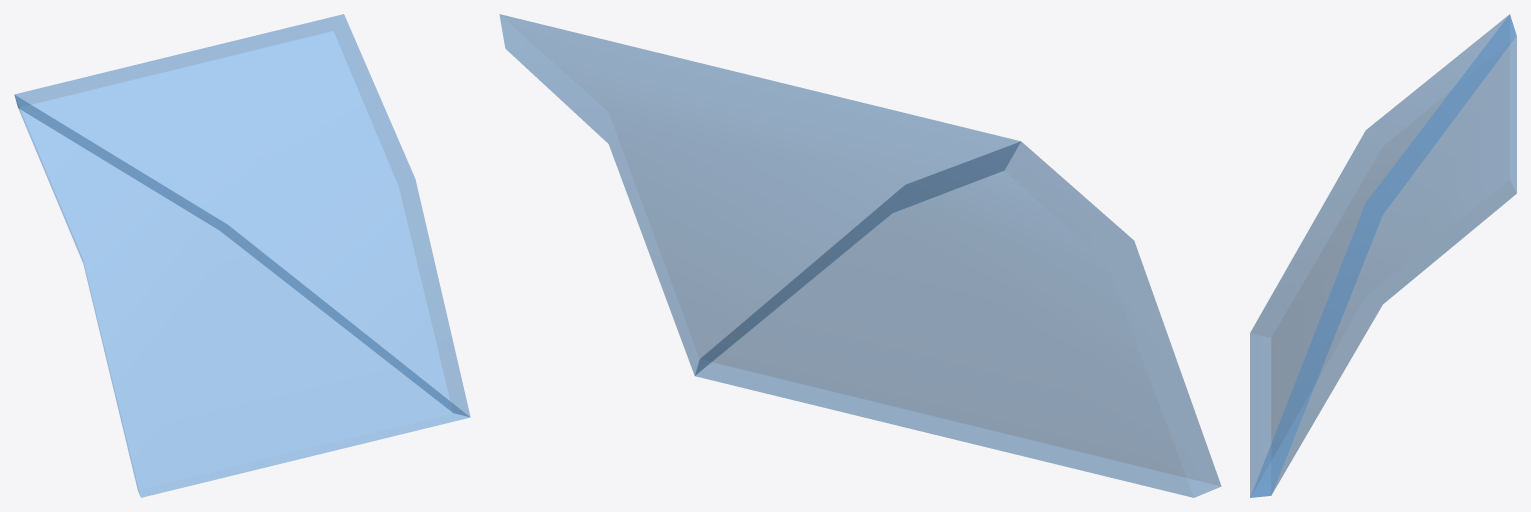
File: Glass_Broken_01.fbx
The picture shows the model from 3 angles, left to right: view 1: azimuth 30°, elevation 25°; view 2: azimuth 150°, elevation 25°; view 3: azimuth 270°, elevation 25°; orthographic projection. The views are drawn at different scales.
Visible parts, largest first — view 1: Cube, Cube.002; view 2: Cube.002, Cube; view 3: Cube, Cube.002.
Part boxes in pixels (x1,y1,x2,y2): Cube: (14,14,470,416); Cube.002: (14,95,470,497); Cube.002: (695,141,1221,497); Cube: (499,14,1020,375); Cube: (1250,14,1516,497); Cube.002: (1250,14,1516,497).
Size of the model in its own units: 2.93 by 2.64 by 1.99.
